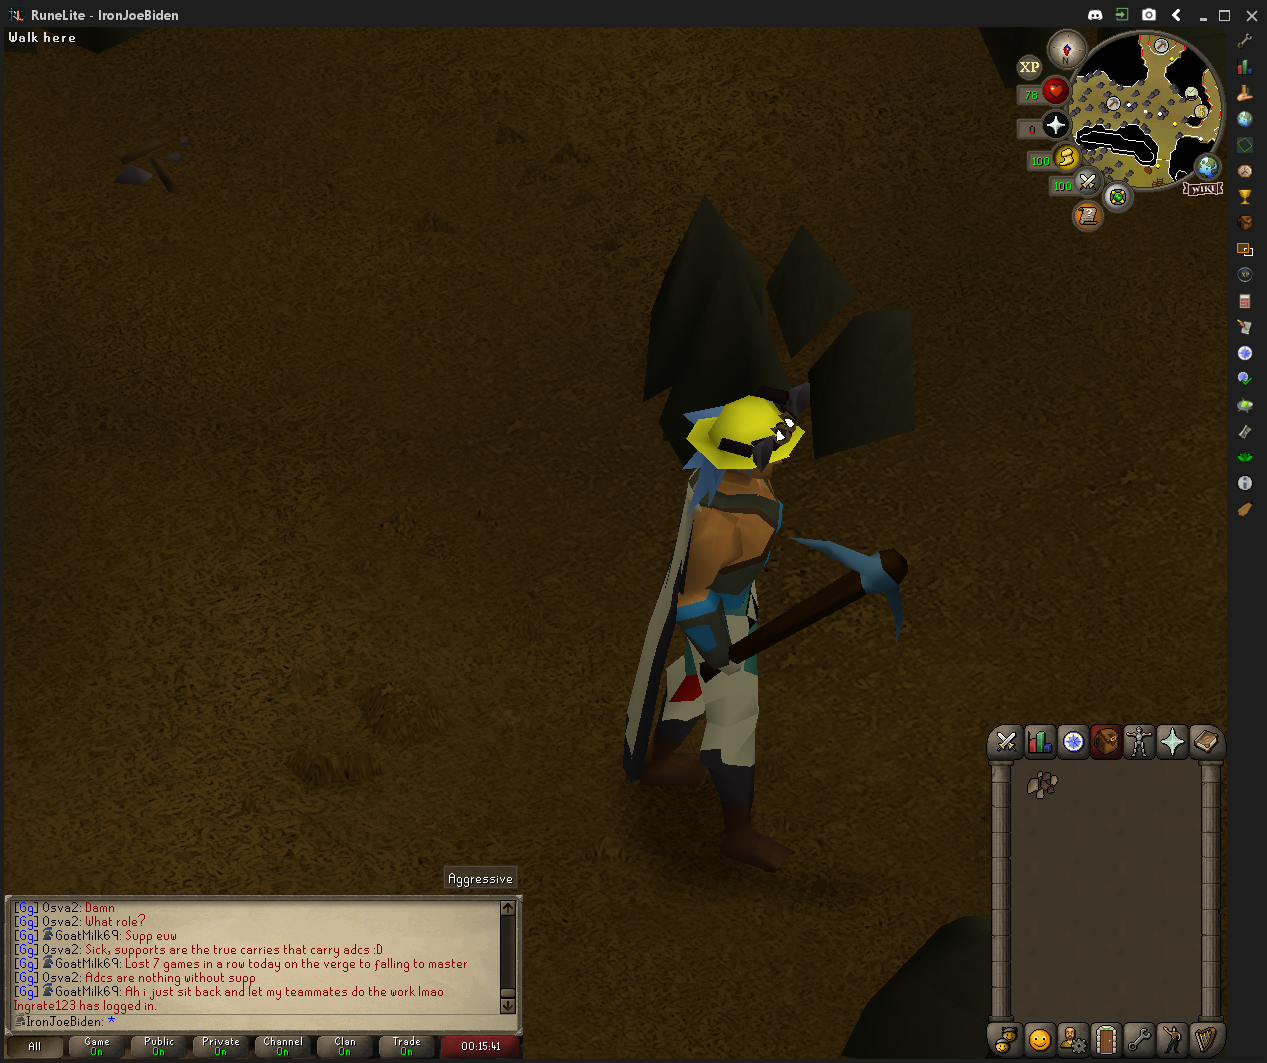rune_pickaxe: (721, 524, 928, 689)
